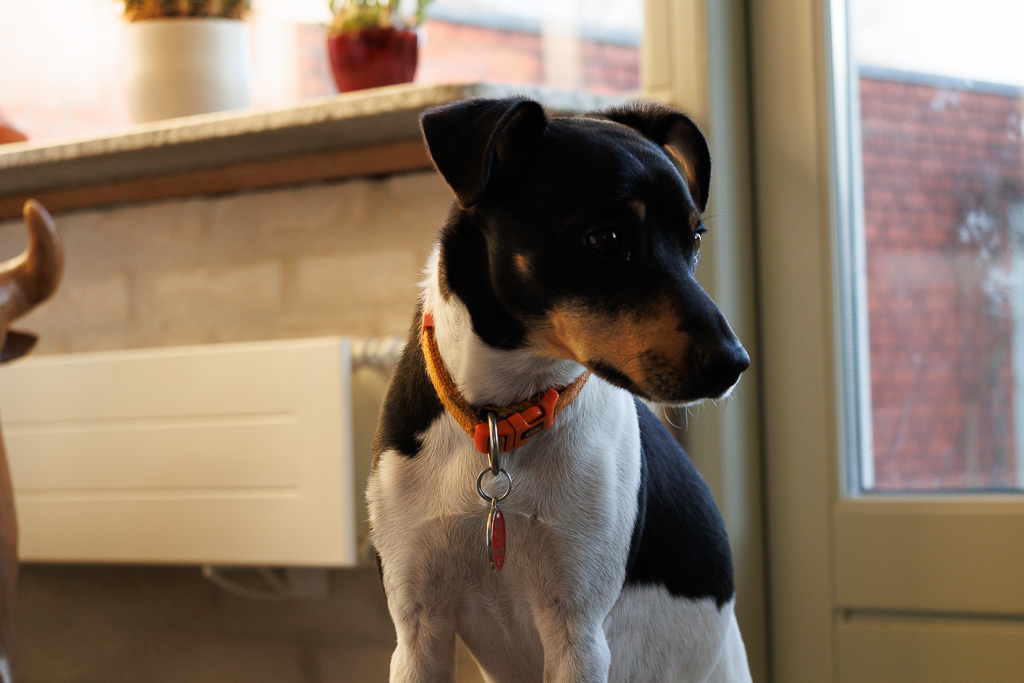Cattle: (0, 193, 72, 683)
Dog: (353, 82, 763, 683)
